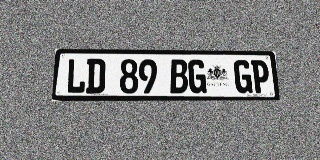8: (120, 59, 138, 93)
9: (139, 59, 157, 93)
B: (170, 59, 188, 93)
D: (86, 59, 106, 93)
G: (233, 60, 253, 93), (188, 59, 207, 93)
L: (66, 58, 86, 94)
P: (251, 60, 270, 93)
